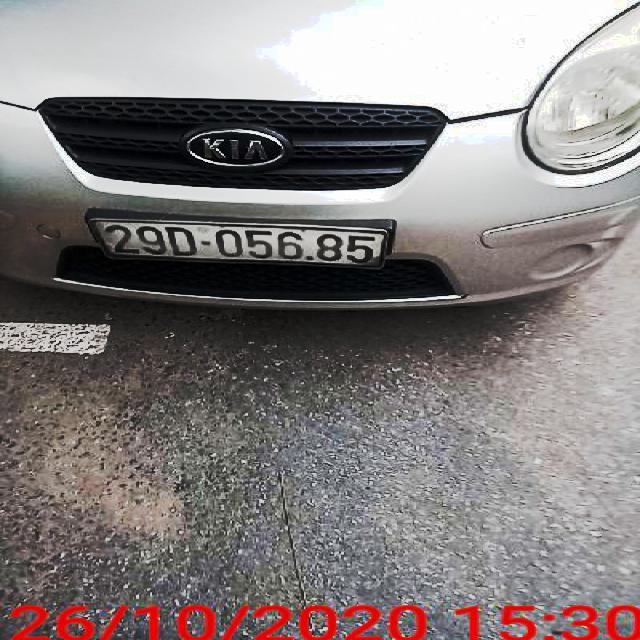license_plate: (93, 219, 385, 268)
